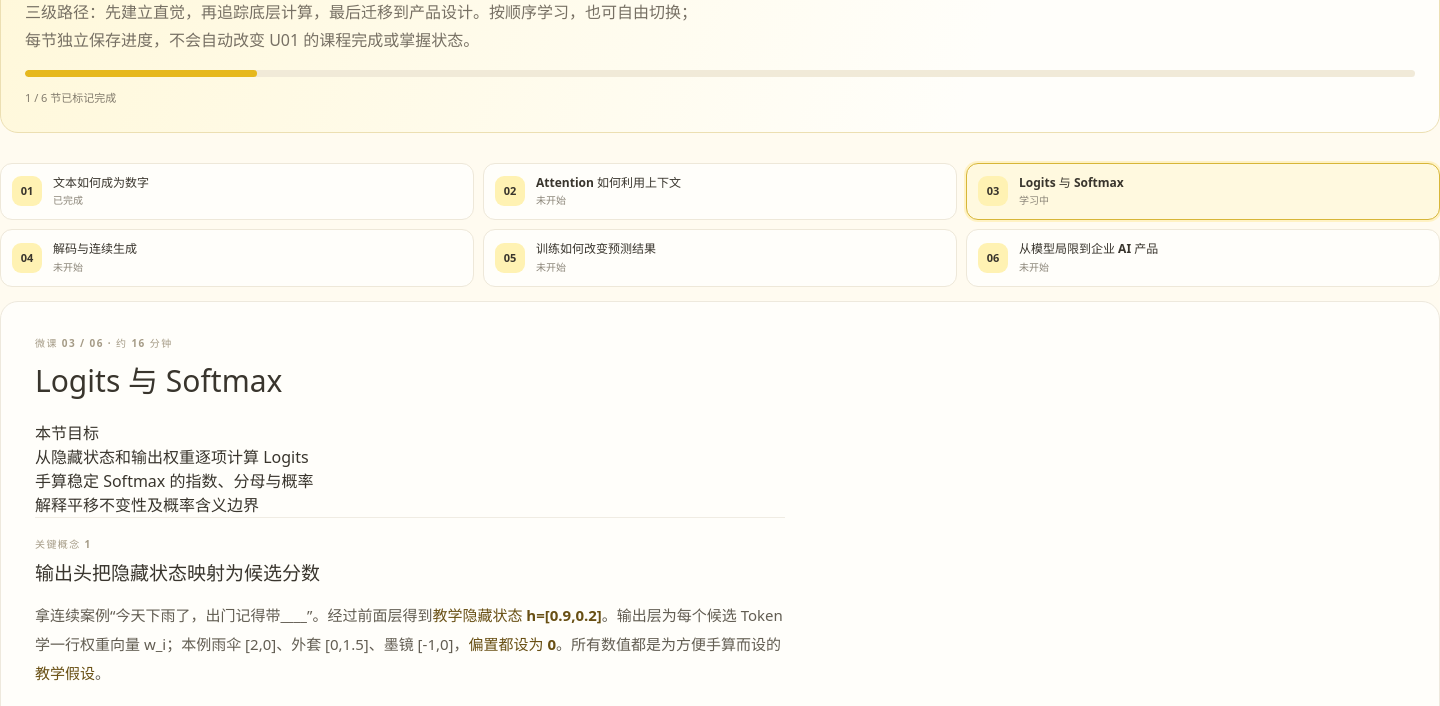
Test: U01 micro-lesson experience › requires all causal forecasts before showing the explanations and keeps U20 planned
The width and height of the screenshot is (1440, 706).
Click the button "04 解码与连续生成 未开始". click: x=95, y=249
box: [0,229,474,287]
(page scrolled)
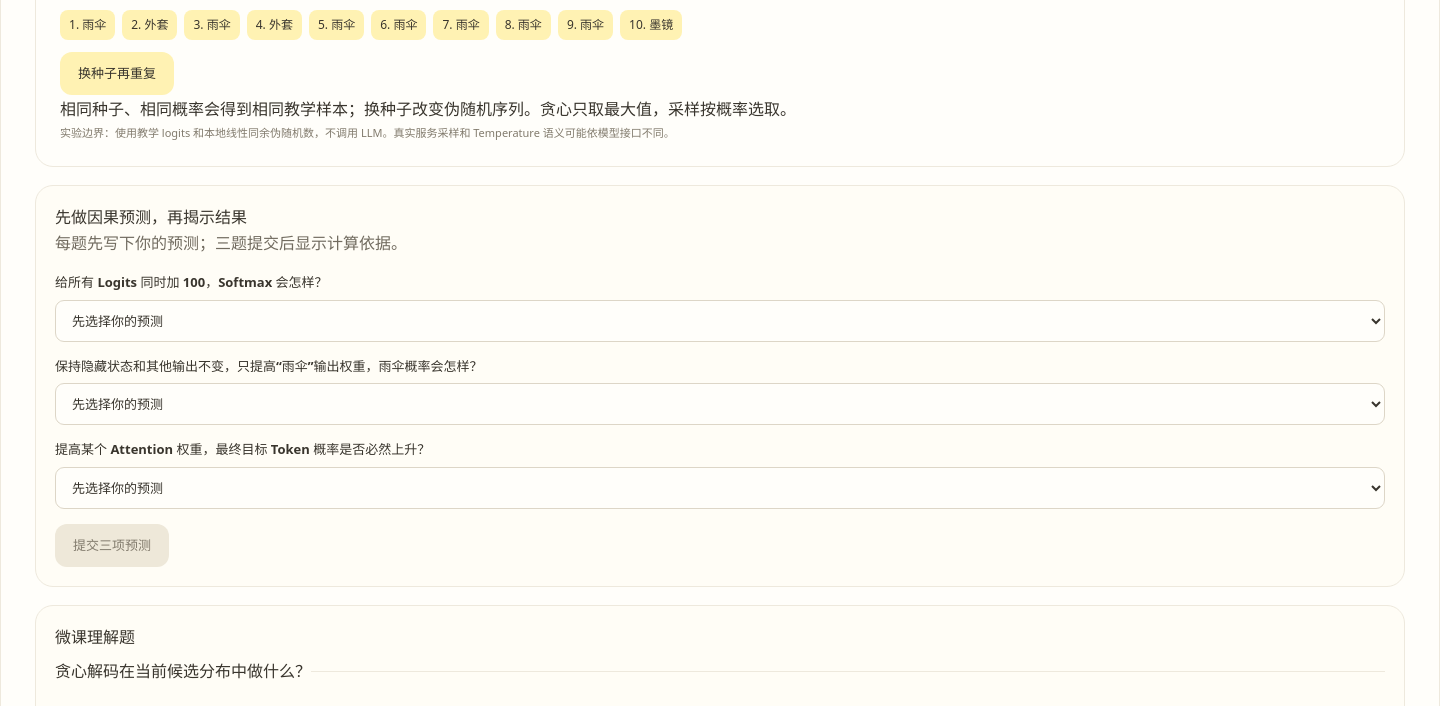
Expected: the button "提交三项预测" is disabled, [55,524,169,567]
Select "保持不变" in the dropdown labelled "给所有 Logits 同时加 100，Softmax 会怎样？". click: x=720, y=321
box: [55,300,1385,342]
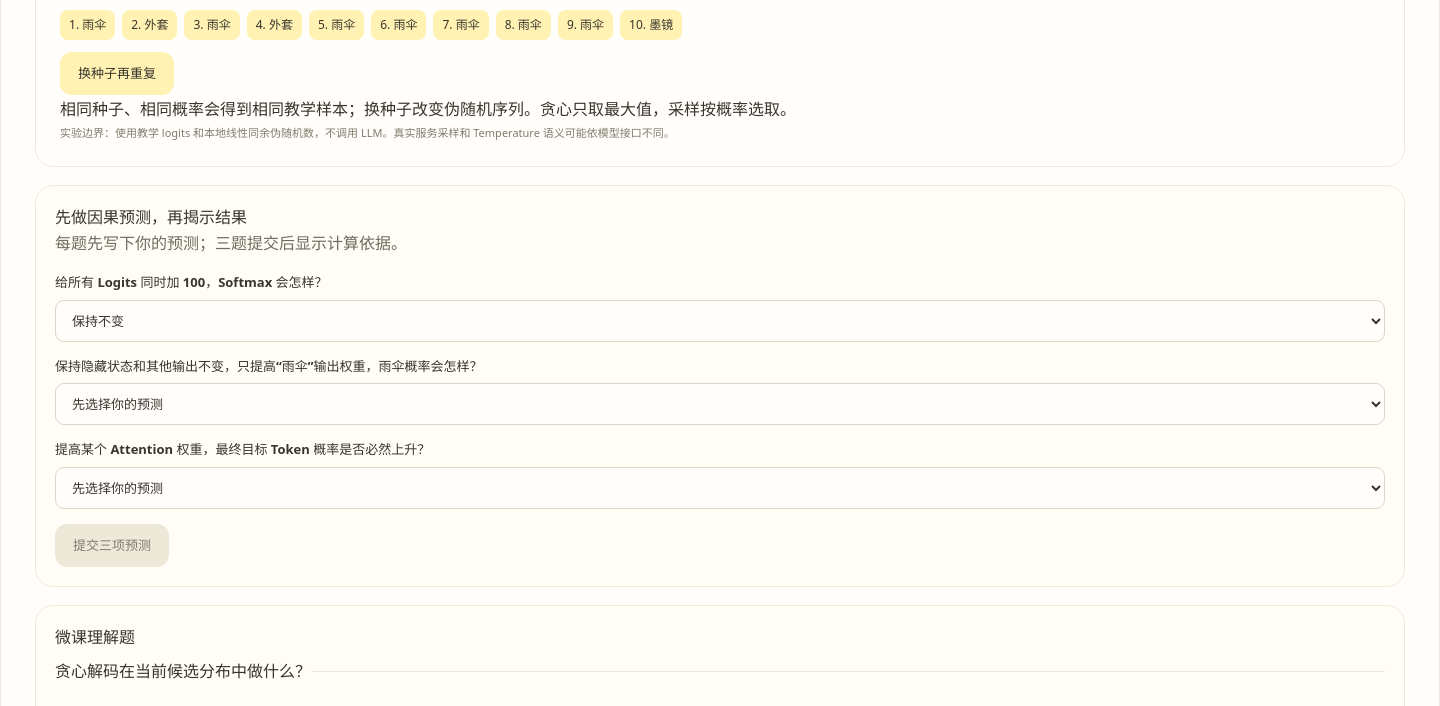
Select "上升" in the dropdown labelled "保持隐藏状态和其他输出不变，只提高“雨伞”输出权重，雨伞概率会怎样？". click: x=720, y=404
box: [55,383,1385,425]
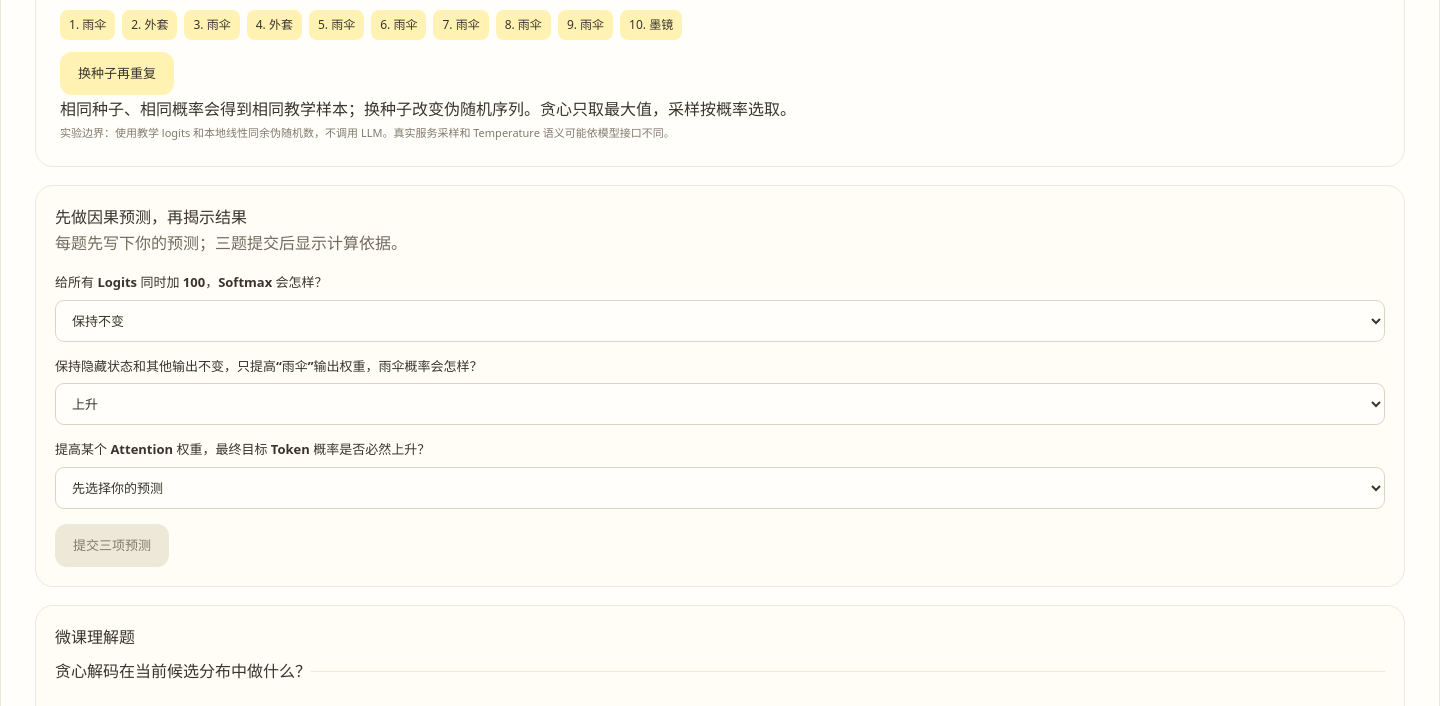
Select "不一定" in the dropdown labelled "提高某个 Attention 权重，最终目标 Token 概率是否必然上升？". click: x=720, y=488
box: [55,467,1385,509]
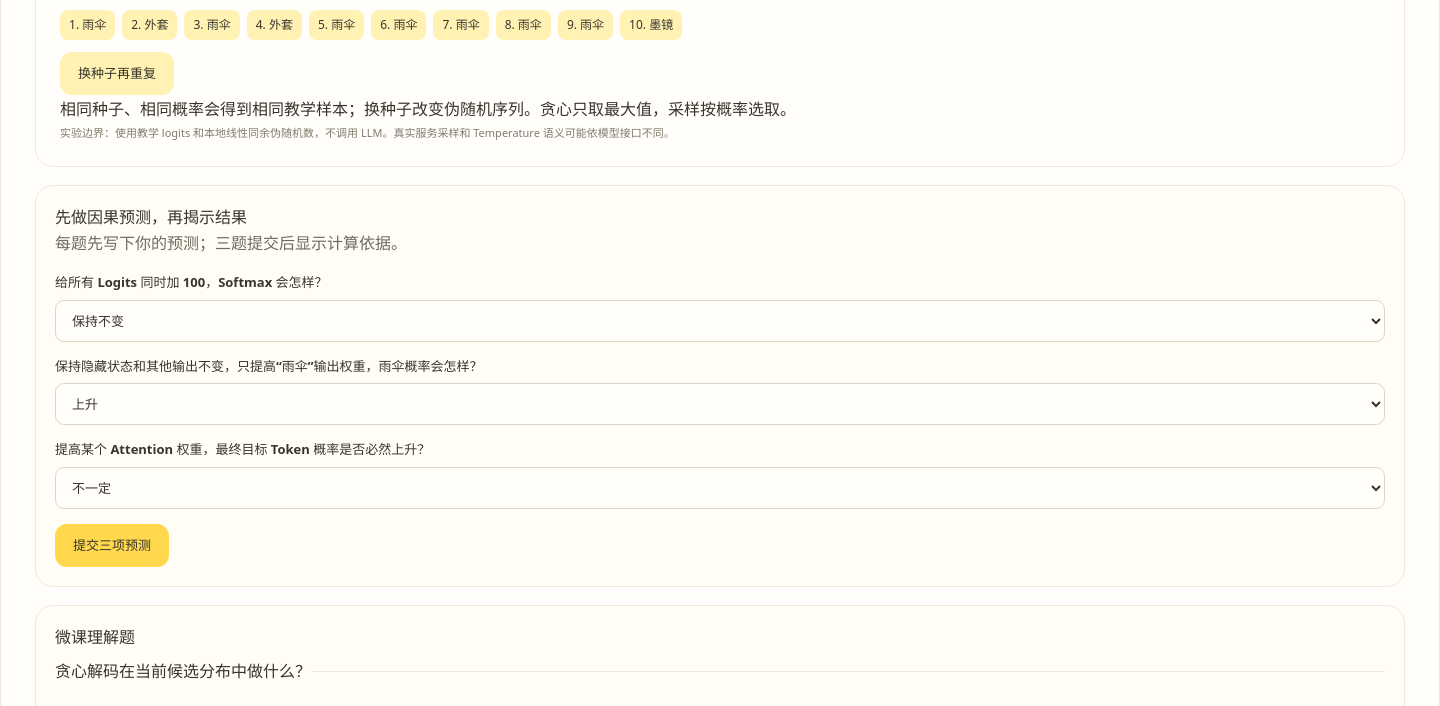
Click the button "提交三项预测". click: x=112, y=545
box: [55,524,169,567]
(page scrolled)
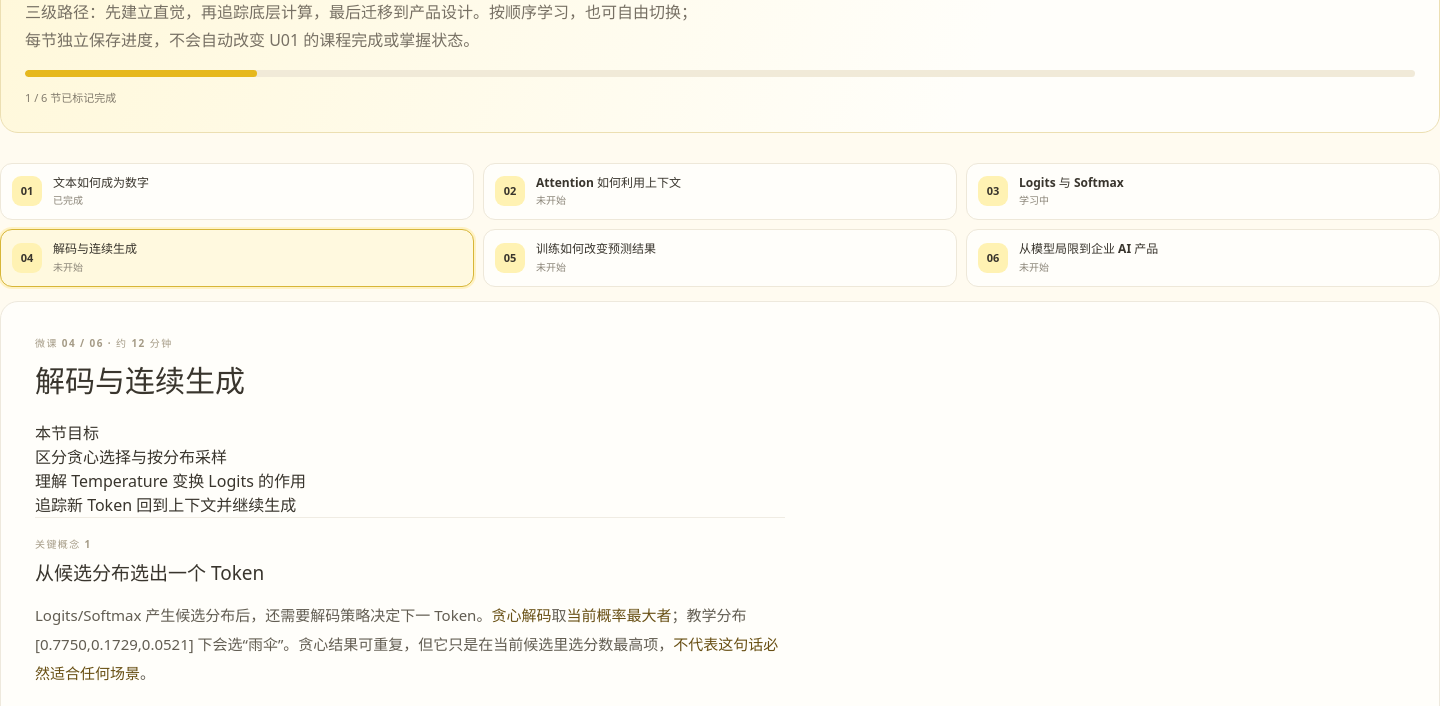
Click the button "06 从模型局限到企业 AI 产品 未开始". click: x=1089, y=249
box: [966,229,1439,287]
(page scrolled)
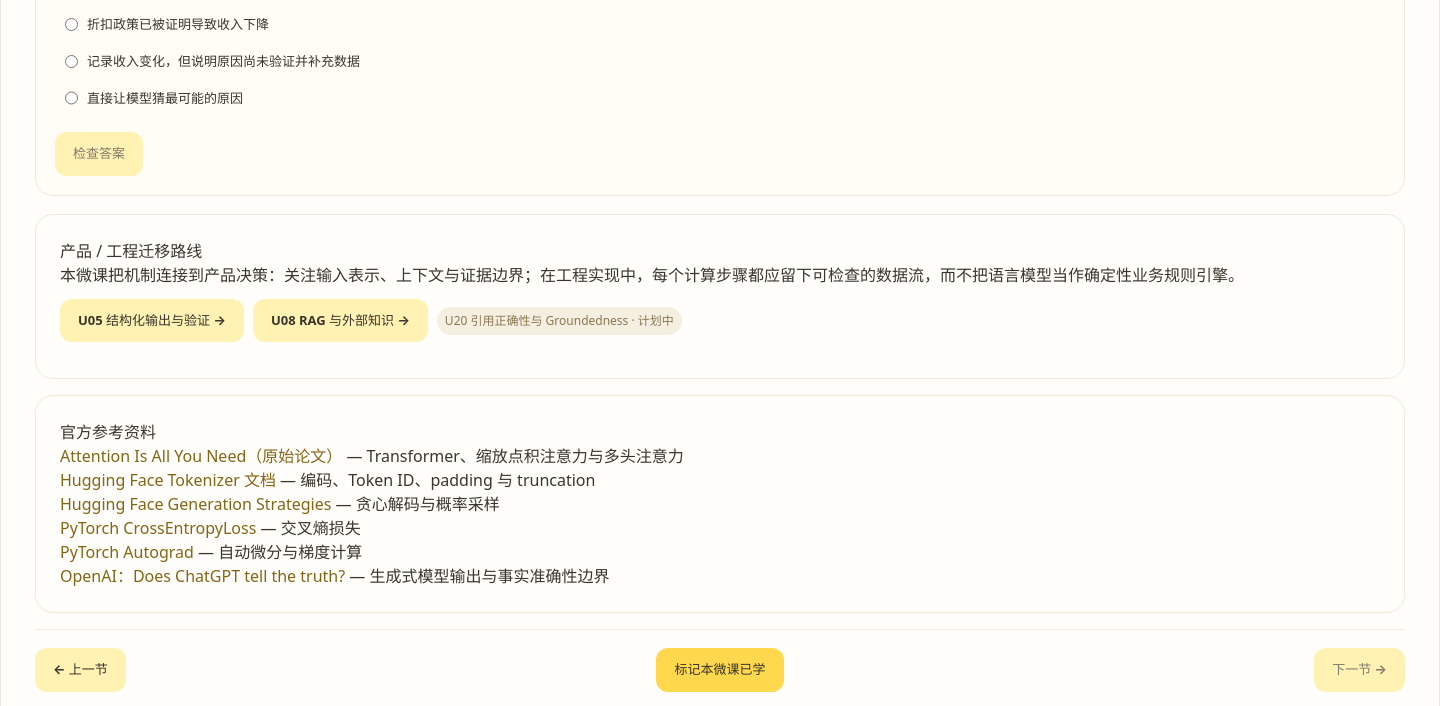
Expected: the text "U20 引用正确性与 Groundedness · 计划中" is shown, [437,307,682,335]
